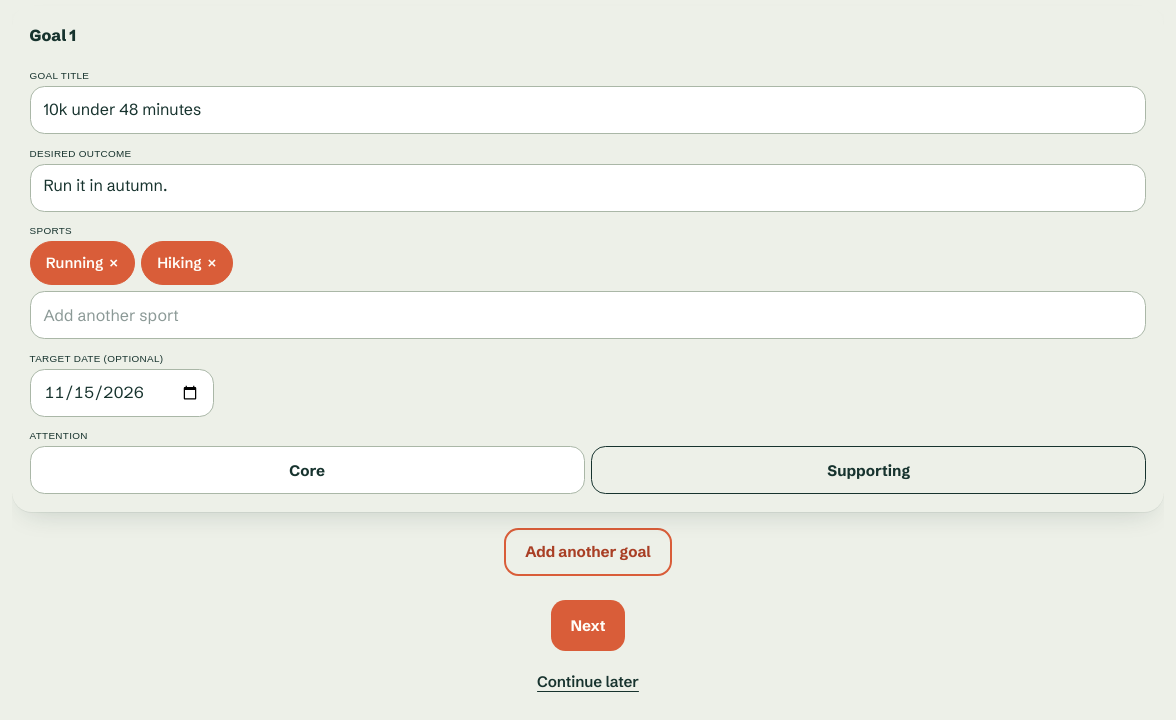
OnboardingManager › starts the goals screen from the goals the account already has, and saves them as goals
This screenshot has width=1176, height=720.
(page scrolled)
Expected: the field labelled "Goal title" holds "10k under 48 minutes", [30, 86, 1146, 134]
Expected: the text box labelled "Desired outcome" holds "Run it in autumn.", [30, 164, 1146, 212]
Click the button "Next".
click(588, 625)  # box [551, 600, 625, 651]
(page scrolled)
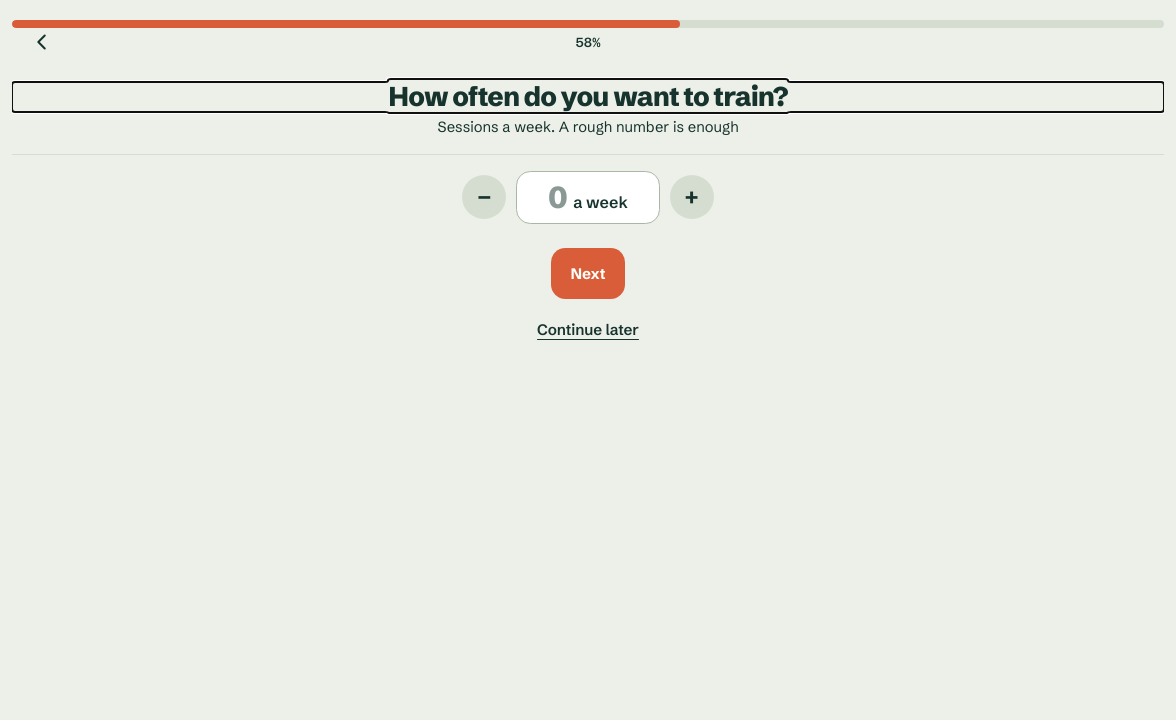
Result: the heading "How often do you want to train?" is shown at [388, 79, 788, 113]
